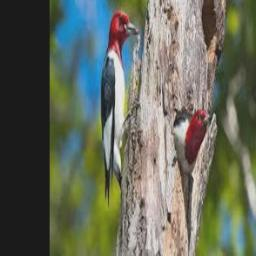Woodpecker: (100, 11, 139, 205), (172, 104, 212, 212)
